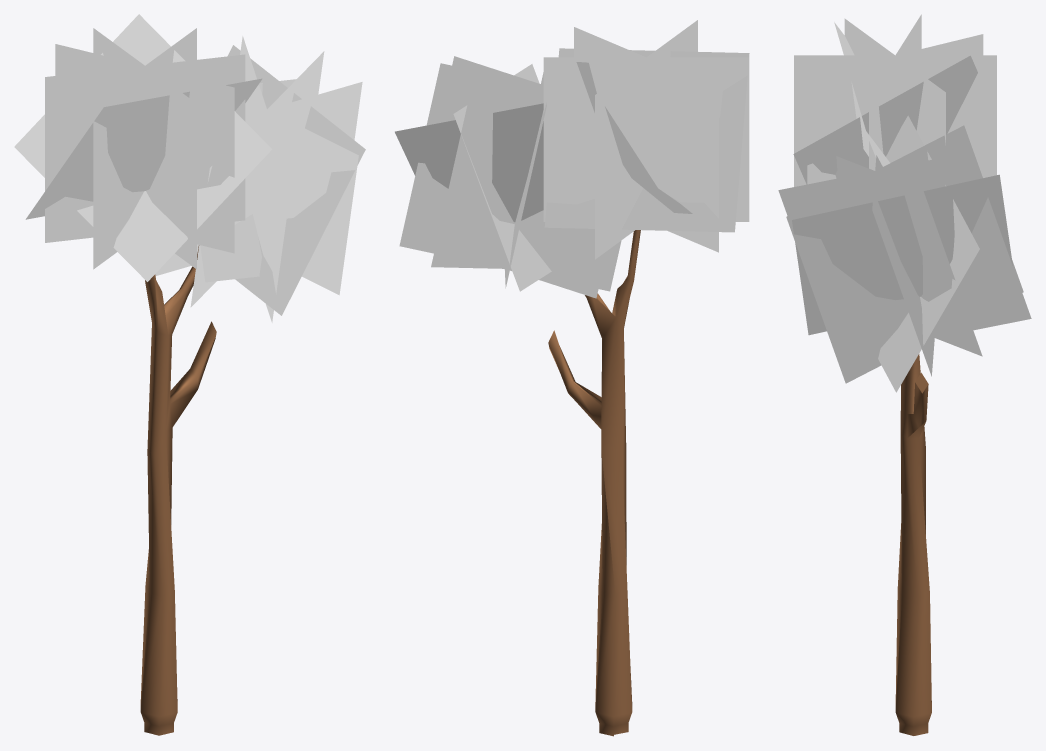
The model's file is Tree_4.fbx.
The picture shows the model from 3 angles, left to right: view 1: azimuth 30°, elevation 25°; view 2: azimuth 150°, elevation 25°; view 3: azimuth 270°, elevation 25°; orthographic projection. The views are drawn at different scales.
Parts seen in each view (by area): view 1: Tree4; view 2: Tree4; view 3: Tree4.
Part boxes in pixels (x1=…): Tree4: x1=14, y1=14, x2=365, y2=735; Tree4: x1=395, y1=20, x2=749, y2=736; Tree4: x1=778, y1=14, x2=1031, y2=735.
Bounding box in the file's own units: 5.82 × 11.99 × 4.06.
